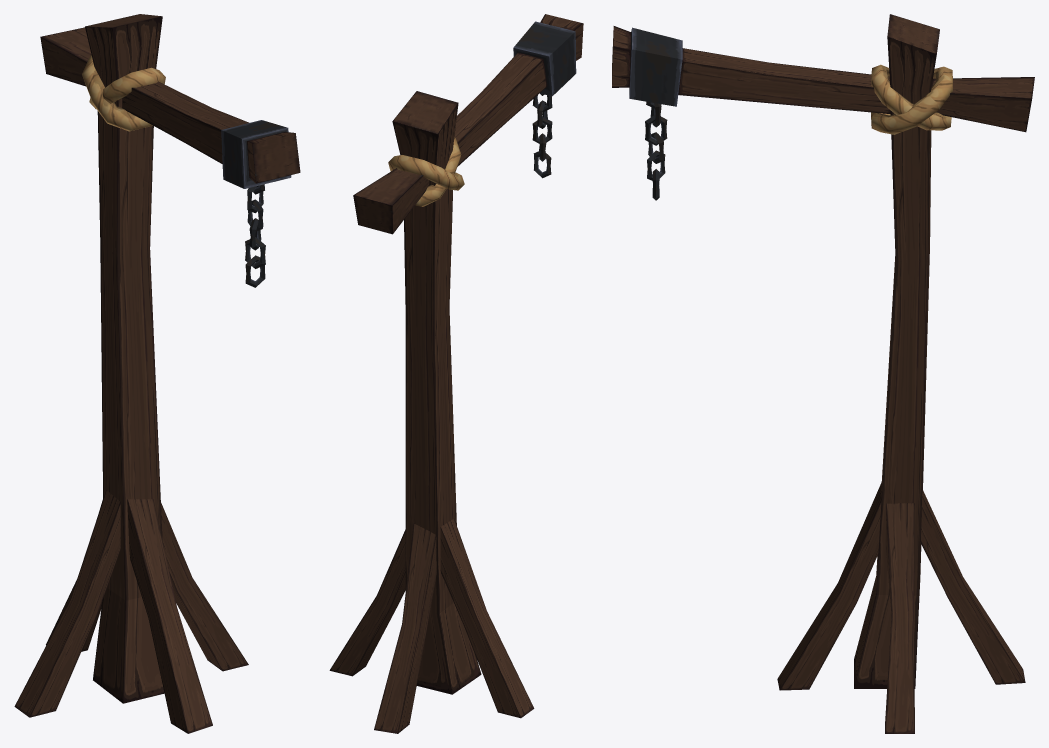
File: SM_PROP_cage_holder_battle.fbx
3 renders of one model, left to right at view 1: azimuth 30°, elevation 25°; view 2: azimuth 150°, elevation 25°; view 3: azimuth 270°, elevation 25°, orthographic. The views are drawn at different scales.
Parts seen in each view (by area): view 1: SM_PROP_cage_holder_battle, SM_PROP_cage_holder_chains_battle; view 2: SM_PROP_cage_holder_battle, SM_PROP_cage_holder_chains_battle; view 3: SM_PROP_cage_holder_battle, SM_PROP_cage_holder_chains_battle.
Boxes of the visible parts, x1=… form: SM_PROP_cage_holder_battle: x1=14, y1=14, x2=300, y2=733; SM_PROP_cage_holder_chains_battle: x1=245, y1=184, x2=265, y2=287; SM_PROP_cage_holder_battle: x1=329, y1=14, x2=583, y2=733; SM_PROP_cage_holder_chains_battle: x1=532, y1=93, x2=552, y2=178; SM_PROP_cage_holder_battle: x1=612, y1=14, x2=1034, y2=733; SM_PROP_cage_holder_chains_battle: x1=645, y1=101, x2=667, y2=200.
Bounding box in the file's own units: 133 × 389 × 227.
